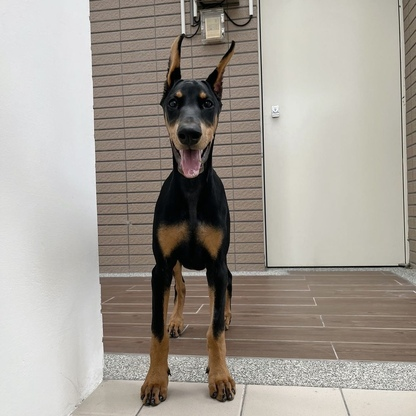doberman: (144, 33, 241, 407)
